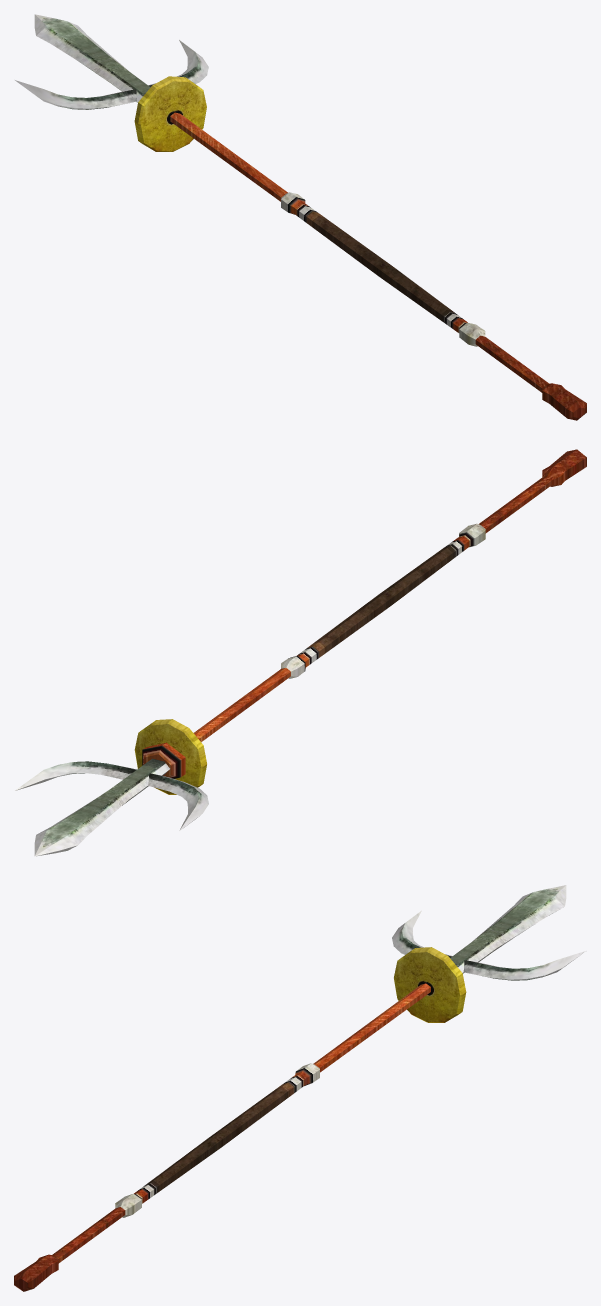
File: weapon_lstest_nihongou.glb
The picture shows the model from 3 angles, top to bottom: view 1: azimuth 30°, elevation 25°; view 2: azimuth 150°, elevation 25°; view 3: azimuth 330°, elevation 25°; orthographic projection.
Bounding box in the file's own units: 0.6016 × 0.2554 × 3.44.
1 material, 1 textured.
